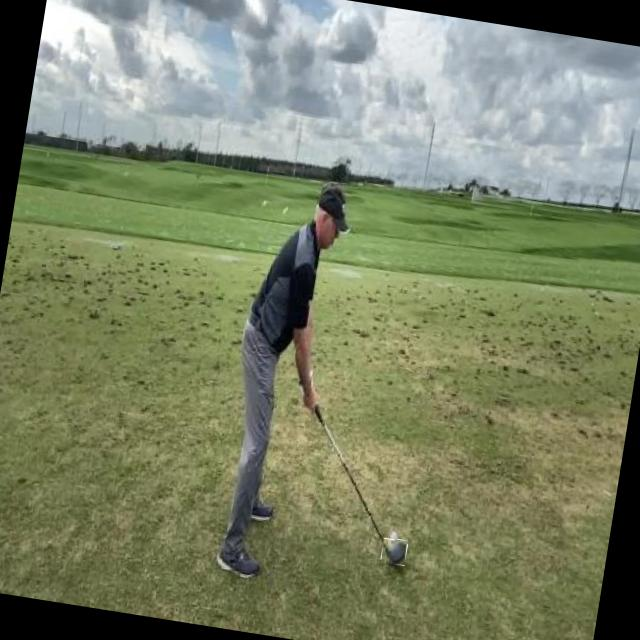club head: (381, 538, 408, 566)
